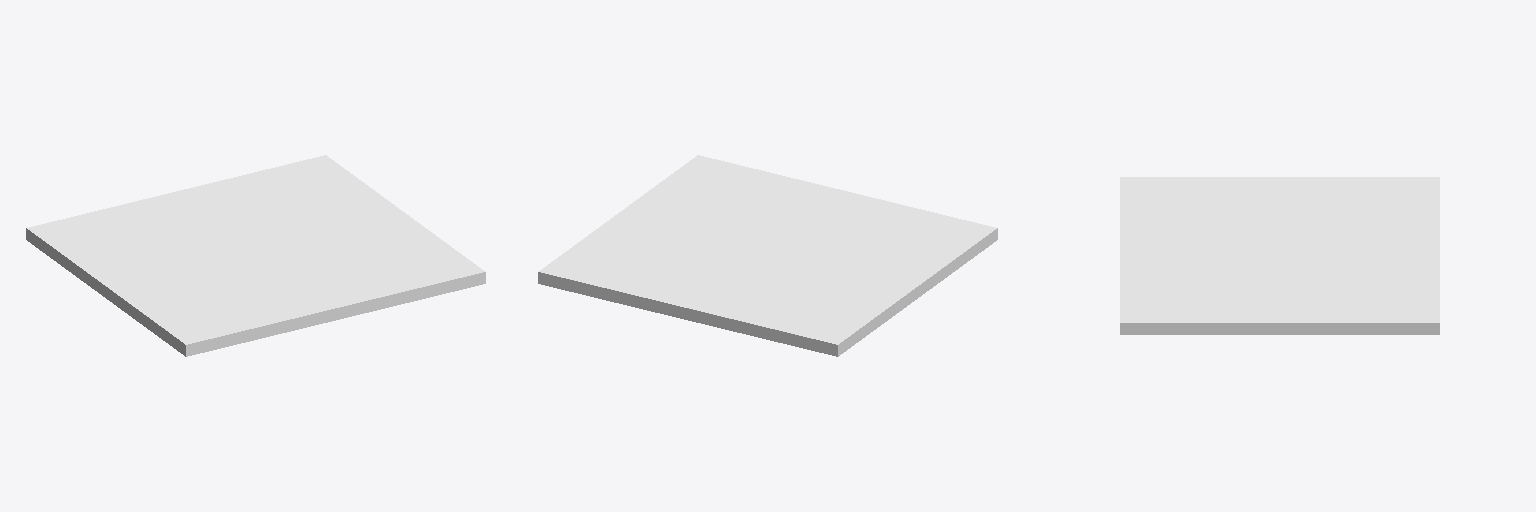
The model's file is floortileobj.obj.
3 views of the same model, side by side, from view 1: azimuth 30°, elevation 25°; view 2: azimuth 150°, elevation 25°; view 3: azimuth 270°, elevation 25° (orthographic).
Visible parts, largest first — view 1: object 1; view 2: object 1; view 3: object 1.
Boxes of the visible parts, x1,y1,x2,y2 form: object 1: [26, 155, 485, 356]; object 1: [538, 155, 997, 356]; object 1: [1120, 177, 1439, 334].
Size of the model in its own units: 2.6 by 0.1 by 2.4.